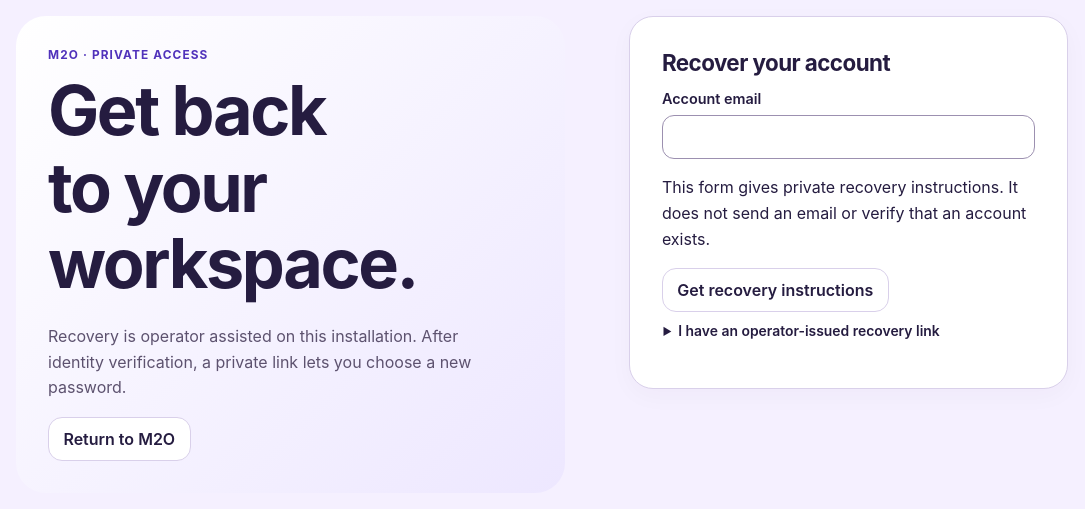
Test: keeps recovery instructions neutral and does not claim an email was sent
Type "synthetic@example.test" into the field labelled "Account email".
click(848, 137); type("synthetic@example.test")  # box 662,115 -> 1035,159
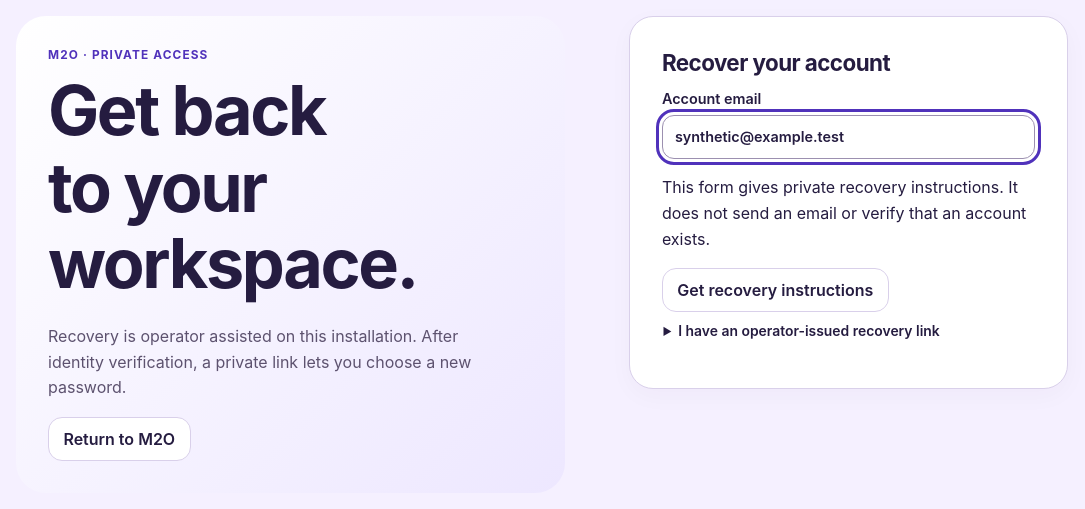
Click the button "Get recovery instructions".
click(775, 290)  # box 662,268 -> 889,312
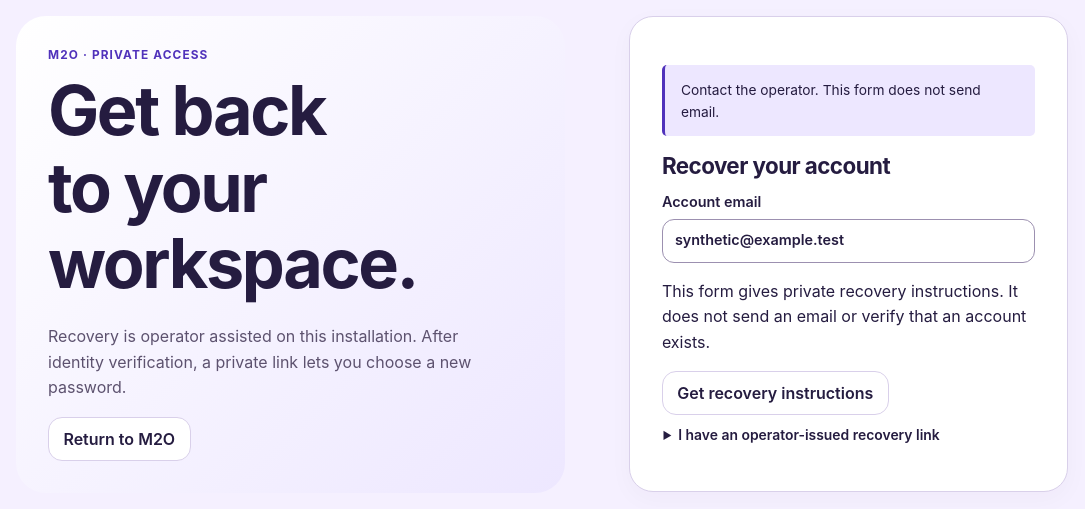
Result: the message shows "does not send email" at 681,82 -> 981,120
